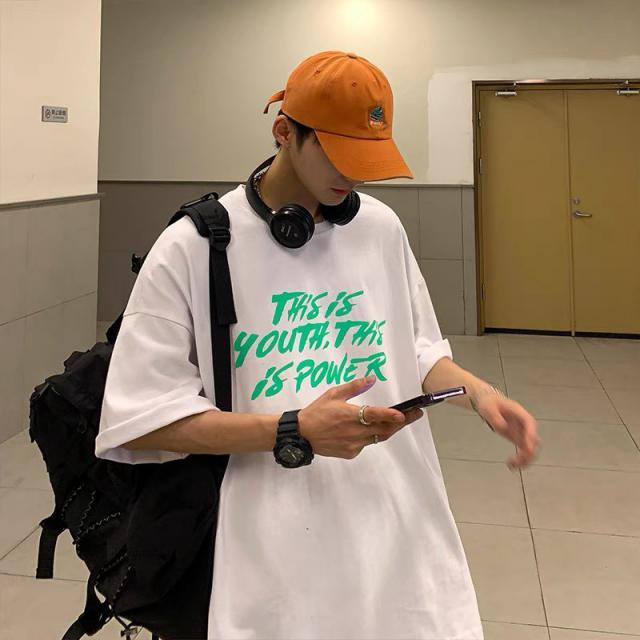Shirt: (84, 175, 488, 640)
